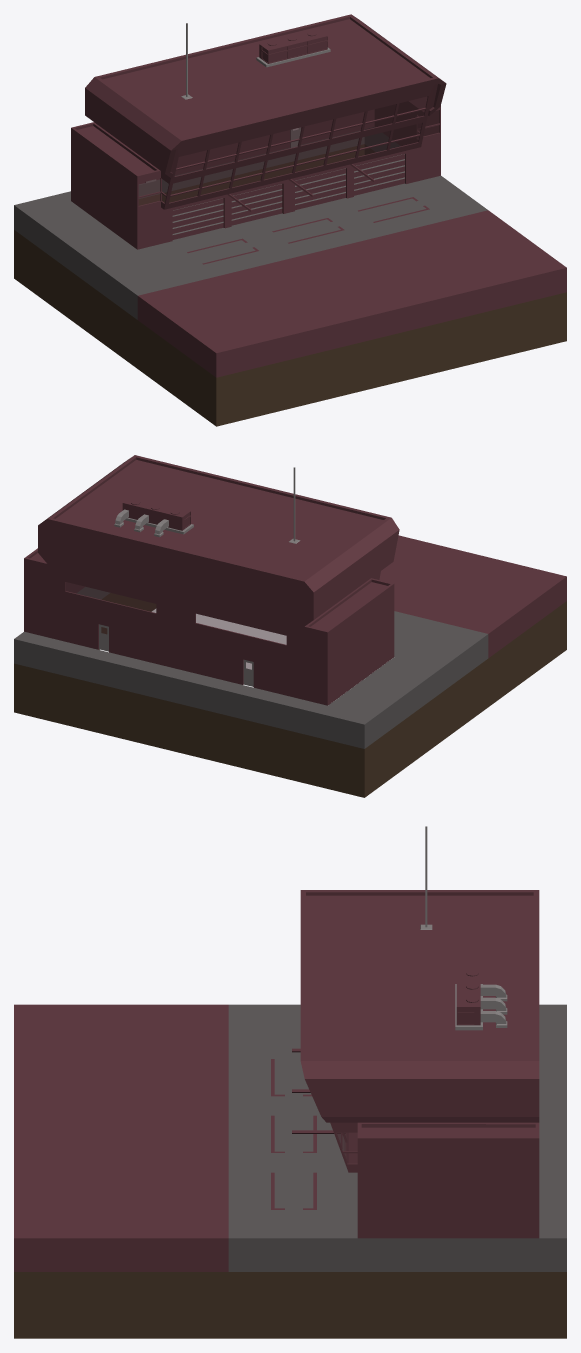
Rendered from tile-race-track-pit-lane-start.fbx.
The picture shows the model from 3 angles, top to bottom: view 1: azimuth 30°, elevation 25°; view 2: azimuth 150°, elevation 25°; view 3: azimuth 270°, elevation 25°; orthographic projection. The views are drawn at different scales.
Visible parts, largest first — view 1: tile-race-track-pit-lane-start; view 2: tile-race-track-pit-lane-start; view 3: tile-race-track-pit-lane-start.
Boxes of the visible parts, <box> form: tile-race-track-pit-lane-start: <box>14,14,566,426</box>; tile-race-track-pit-lane-start: <box>14,455,566,797</box>; tile-race-track-pit-lane-start: <box>14,826,566,1338</box>.
Size of the model in its own units: 30 by 21.51 by 30.
